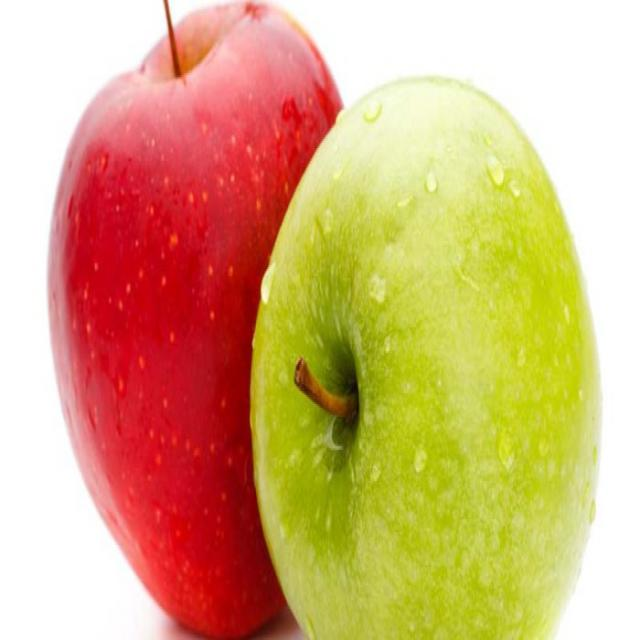apple: (250, 64, 605, 640), (46, 9, 352, 640)
